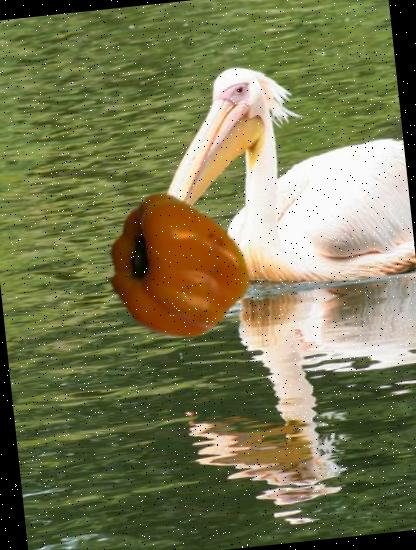Pepper: (92, 184, 256, 348)
